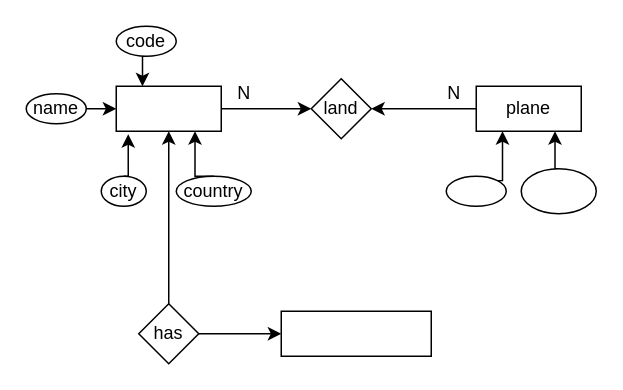
Image size: 623x390. Some labels were removed from this diagram. The centre of each missing label's shape, as x and y in pixels:
"airport" belongs at pixel 168 108.
"capacity" belongs at pixel 558 190.
"flight_program" belongs at pixel 355 333.
"model" belongs at pixel 475 190.
